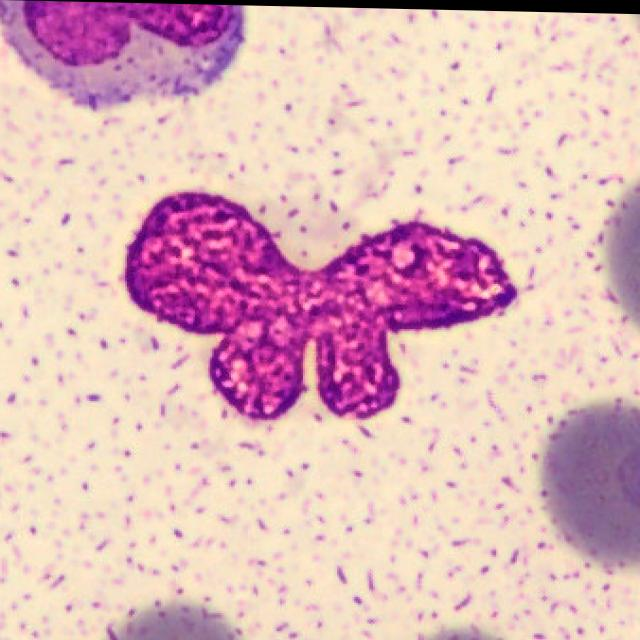Restos celulares: (121, 188, 521, 419)
